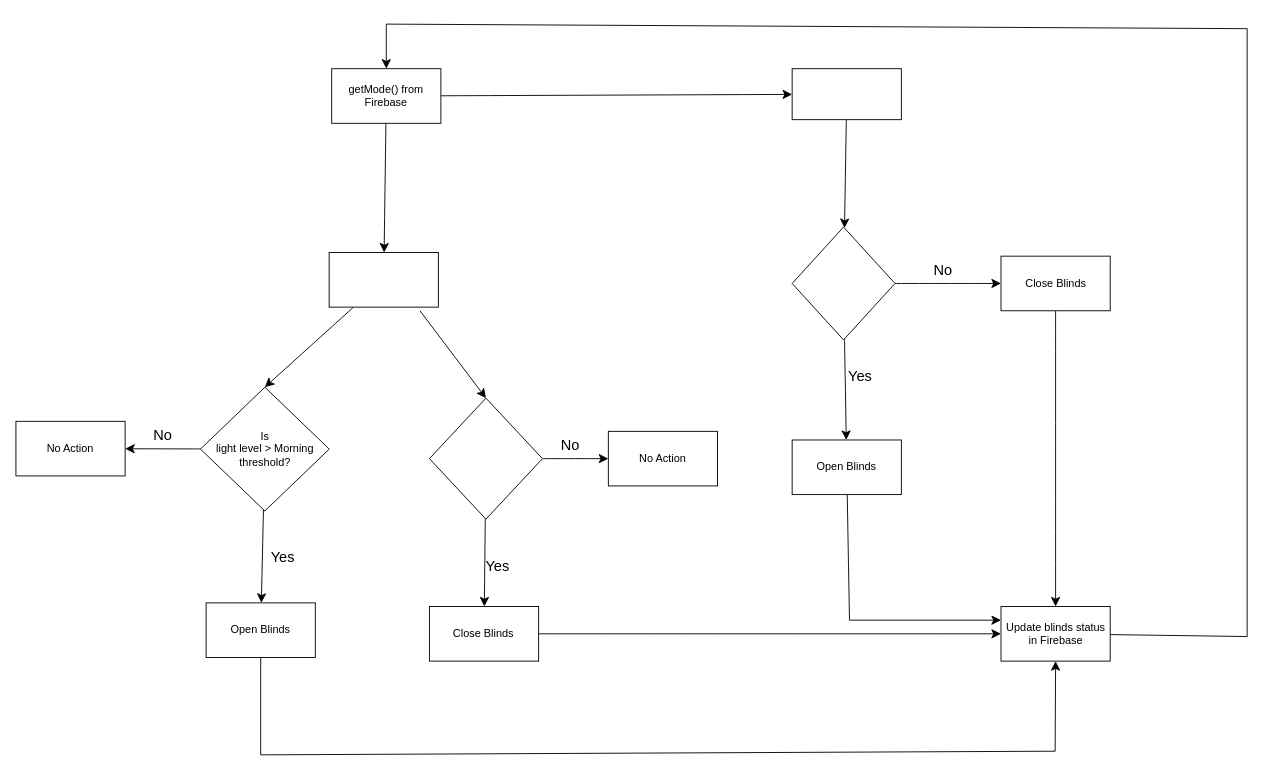
Some shapes in this 1272 by 780 pixel diagram are drawn without their labels. The box of each missing label's shape, as (x1, y1, x2, y2) in pixels:
Automatic Mode: (328, 252, 438, 307)
Is blinds_open = true?: (791, 226, 895, 340)
Is light level < evening threshold?: (429, 397, 542, 519)
Manual Mode: (791, 68, 901, 120)
